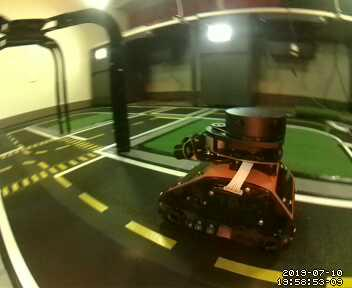pheeno: (157, 106, 299, 257)
